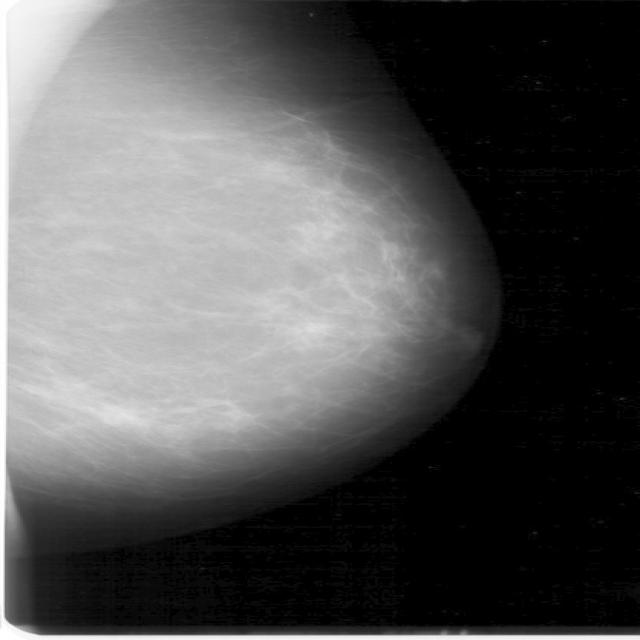tumour: (86, 401, 139, 425)
